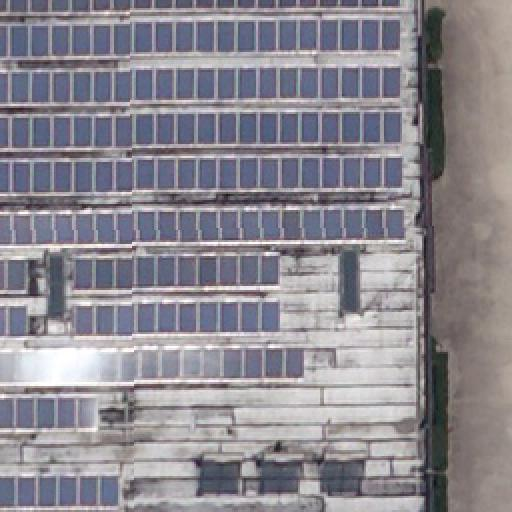solar-panel: (0, 207, 404, 249), (0, 155, 400, 197), (0, 110, 400, 150), (0, 66, 400, 106), (0, 18, 400, 58), (0, 345, 304, 383), (70, 299, 282, 333), (72, 256, 280, 288), (0, 1, 400, 15), (0, 470, 124, 506), (0, 392, 96, 432), (1, 303, 31, 337), (1, 255, 31, 289)
